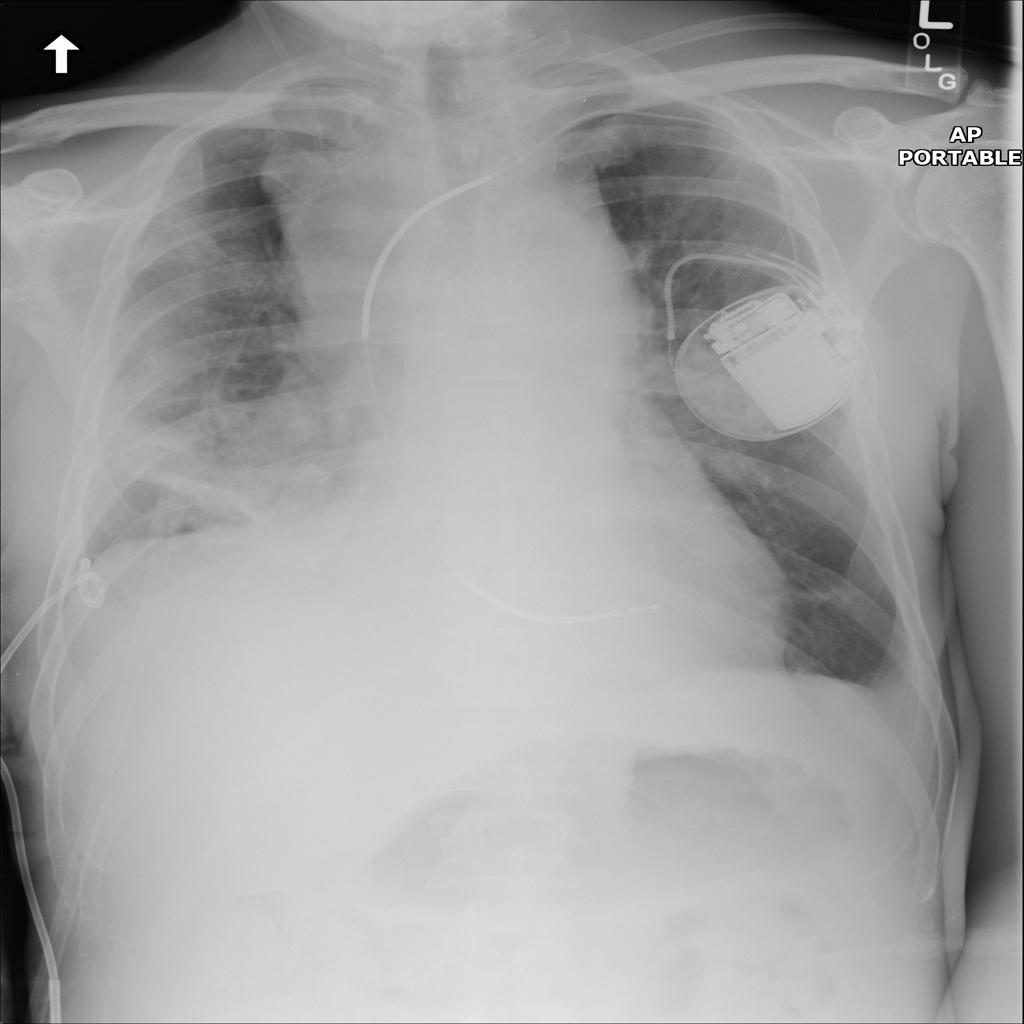Cardiomegaly: (345, 300, 791, 679)
